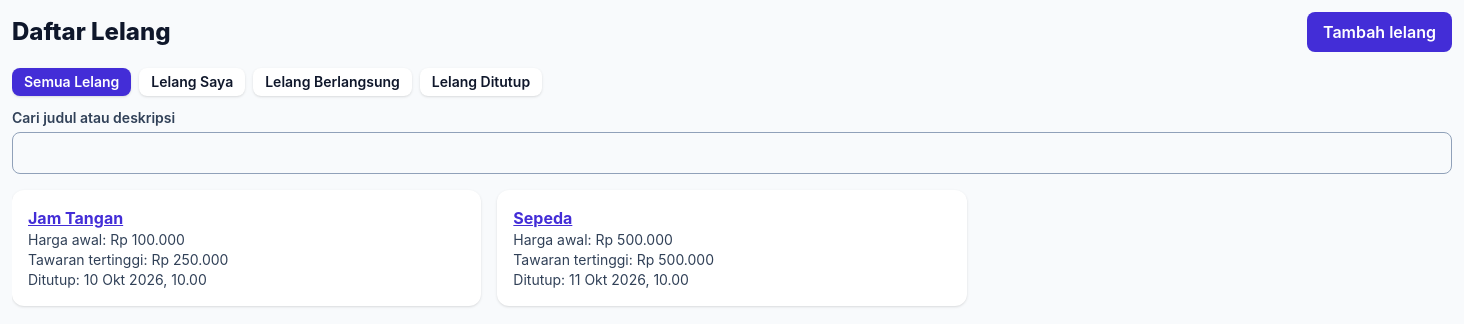
Test: HomePage › menyaring lelang lewat pencarian
The image size is (1464, 324).
Type "sepeda" into the field with id "search" at (732, 153), box [12,132,1452,174]
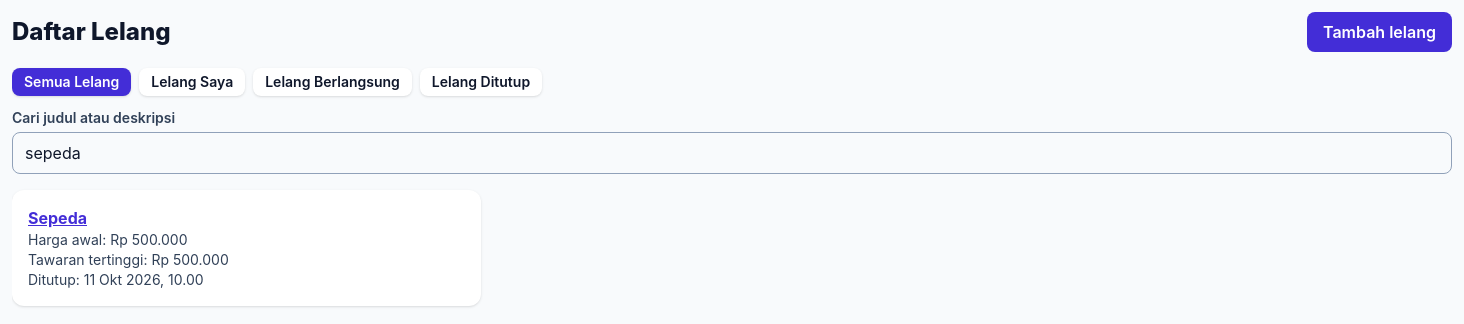
Expected: the list item shows "Sepeda", [28,208,87,228]
Expected: the number of list items is 1, [12,190,481,306]
Replace the text in the field with id "search" with "tidak-ada" at (732, 153), box [12,132,1452,174]
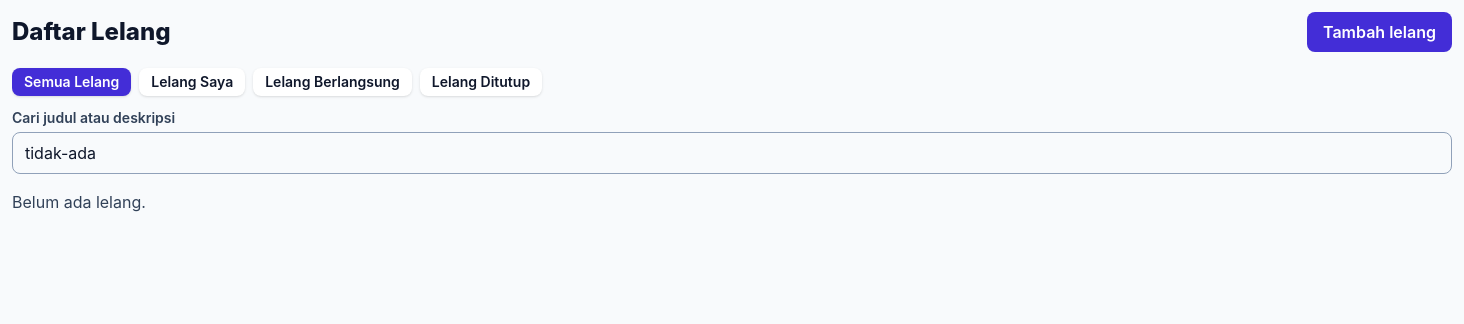
Expected: the text "Belum ada lelang." is shown, [12,192,146,212]
